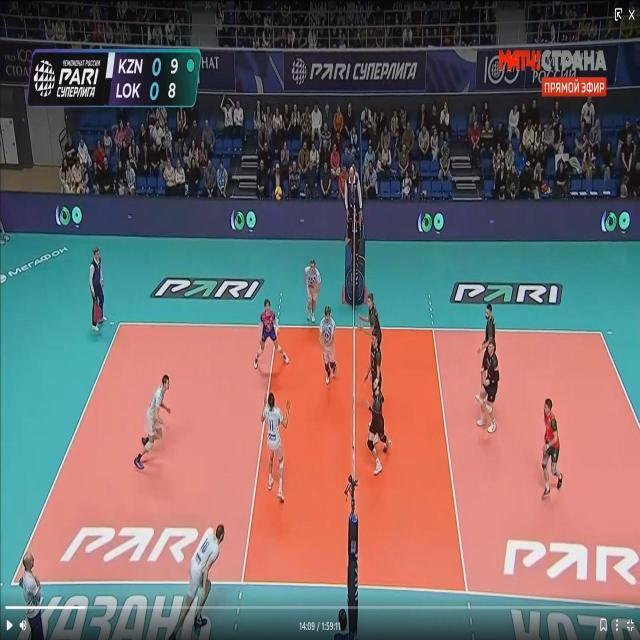volleyball: (274, 186, 282, 201)
